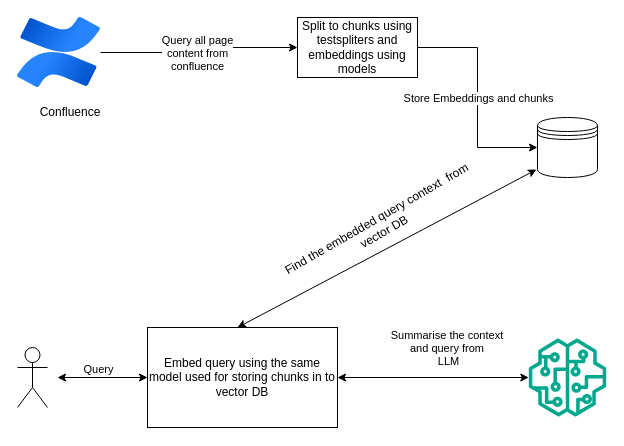
Image size: 624x446. Some labels were removed from this diagram. Each missing label, with the centre of its shape:
"Actor" goes at (32,377).
"Vector DB" goes at (567,147).
